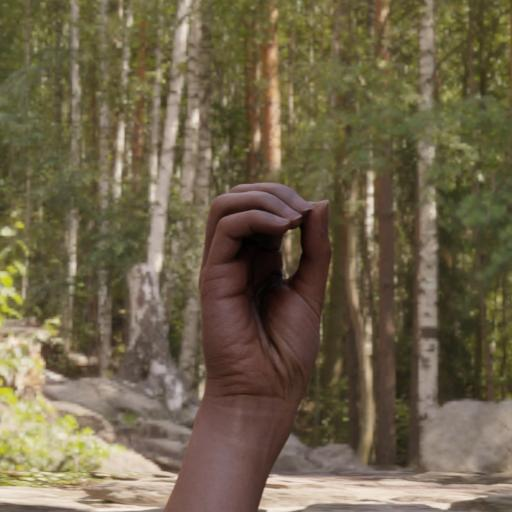O: (173, 175, 358, 492)
